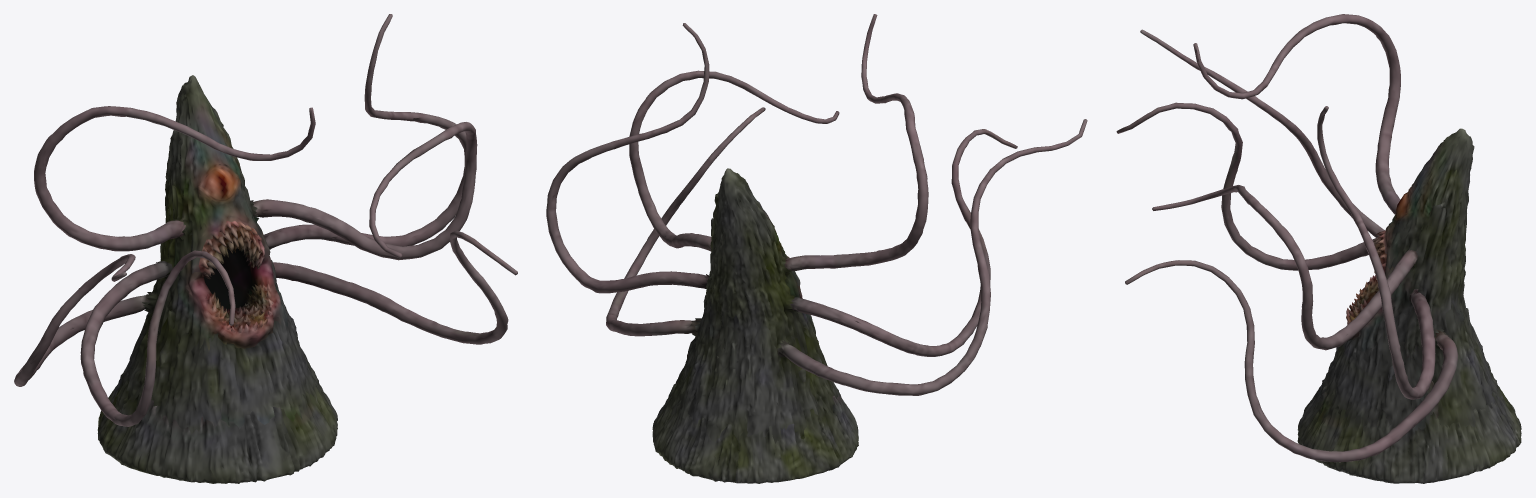
Rendered from MZ4250 - Roper attacking 2025.glb.
3 views of the same model, side by side, from view 1: azimuth 30°, elevation 25°; view 2: azimuth 150°, elevation 25°; view 3: azimuth 270°, elevation 25° (orthographic). The views are drawn at different scales.
Visible parts, largest first — view 1: ORGANIC BASE SPHERE.001; view 2: ORGANIC BASE SPHERE.001; view 3: ORGANIC BASE SPHERE.001.
Part boxes in pixels (box(x1,y1,x2,y2)): ORGANIC BASE SPHERE.001: box(14, 14, 517, 483); ORGANIC BASE SPHERE.001: box(546, 14, 1087, 483); ORGANIC BASE SPHERE.001: box(1116, 14, 1521, 483).
Size of the model in its own units: 296 by 243 by 229.
1 material, 1 textured.
